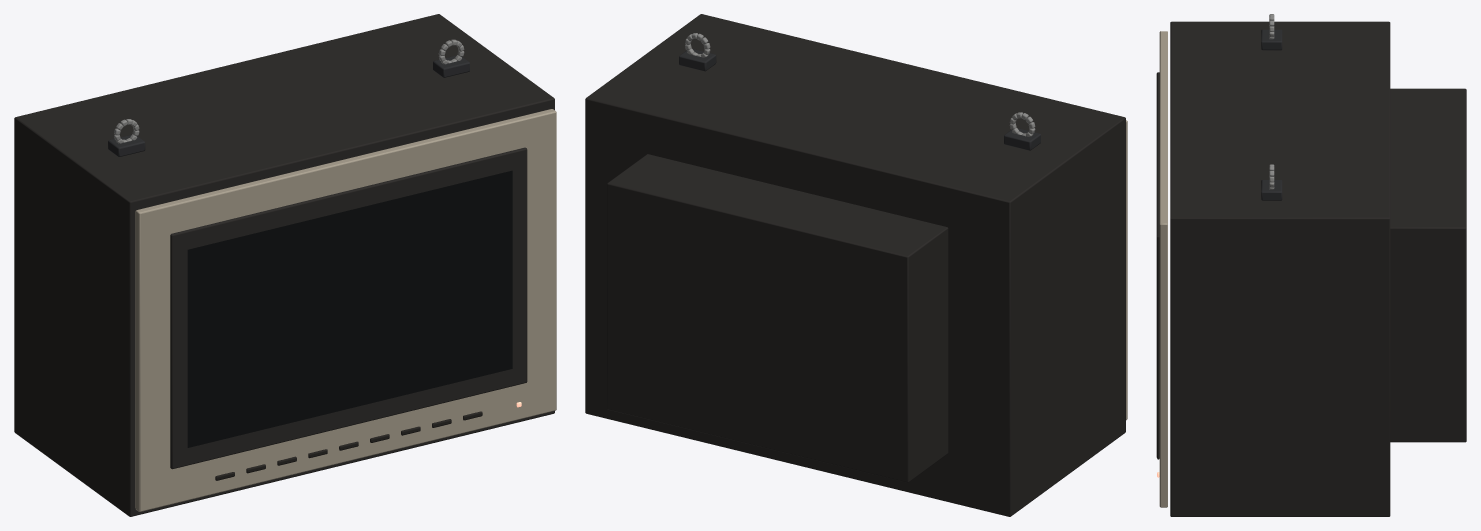
Rendered from SM_L_TV_Wide.fbx.
3 views of the same model, side by side, from view 1: azimuth 30°, elevation 25°; view 2: azimuth 150°, elevation 25°; view 3: azimuth 270°, elevation 25° (orthographic). The views are drawn at different scales.
Visible parts, largest first — view 1: SM_L_TV_Wide__Body, SM_L_TV_Wide__Screen; view 2: SM_L_TV_Wide__Body; view 3: SM_L_TV_Wide__Body.
Boxes of the visible parts, left/top/right/bottom form: SM_L_TV_Wide__Body: left=14, top=14, right=556, bottom=516; SM_L_TV_Wide__Screen: left=187, top=170, right=512, bottom=447; SM_L_TV_Wide__Body: left=585, top=14, right=1127, bottom=516; SM_L_TV_Wide__Body: left=1156, top=14, right=1466, bottom=516.
Size of the model in its own units: 1.1 by 0.856 by 0.733.
